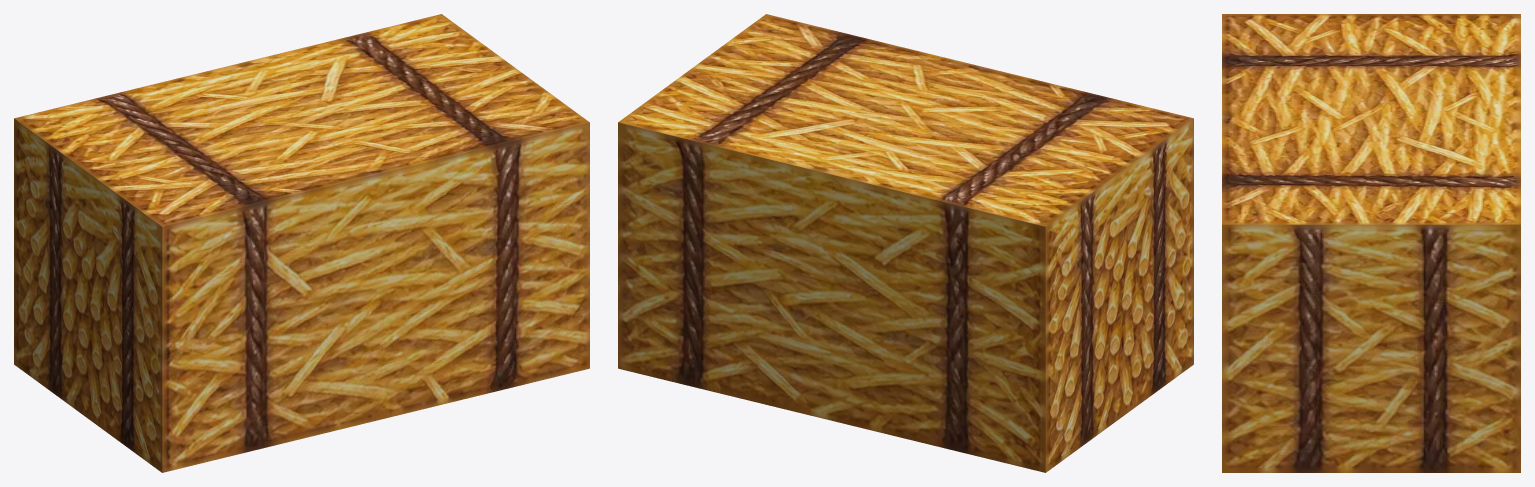
File: hay_bale.glb
3 renders of one model, left to right at view 1: azimuth 30°, elevation 25°; view 2: azimuth 150°, elevation 25°; view 3: azimuth 270°, elevation 25°, orthographic.
Parts seen in each view (by area): view 1: GEO-hay_bale; view 2: GEO-hay_bale; view 3: GEO-hay_bale.
Part boxes in pixels (bbox=[...]): GEO-hay_bale: bbox=[14, 14, 589, 472]; GEO-hay_bale: bbox=[618, 14, 1193, 472]; GEO-hay_bale: bbox=[1222, 14, 1520, 472].
Bounding box in the file's own units: 1 × 0.55 × 0.6.
Materials: 1 (1 with a texture image).
